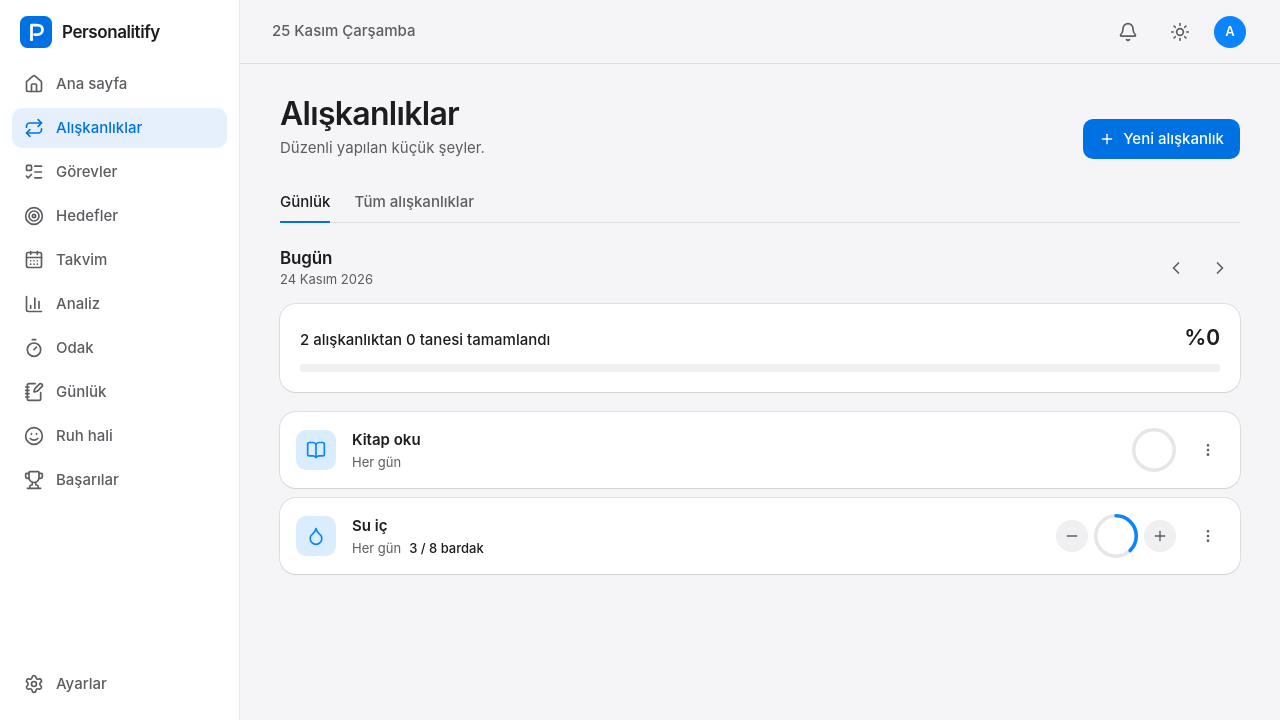
habits day view › shows the day, completes a habit at once and keeps the server’s streak
This screenshot has width=1280, height=720.
Expected: the heading "Bugün" is shown, x1=280 y1=248 x2=332 y2=268
Expected: the text "24 Kasım 2026" is shown, x1=280 y1=270 x2=373 y2=288
Click the checkbox named "Kitap oku alışkanlığını tamamlandı olarak işaretle". click: (1154, 450)
box: x1=1132 y1=428 x2=1176 y2=472
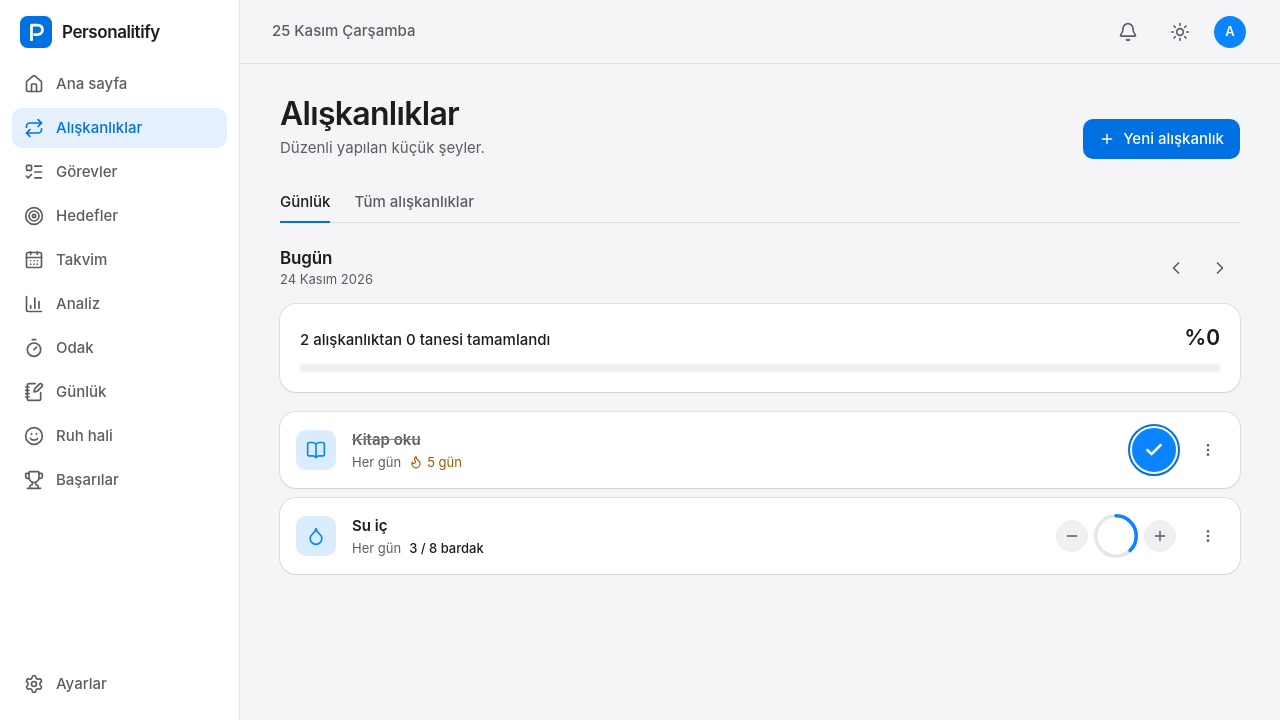
Now the checkbox named "Kitap oku alışkanlığını tamamlandı olarak işaretle" is checked, box x1=1132 y1=428 x2=1176 y2=472
Now the text "5 gün" is shown, box x1=409 y1=453 x2=462 y2=471
